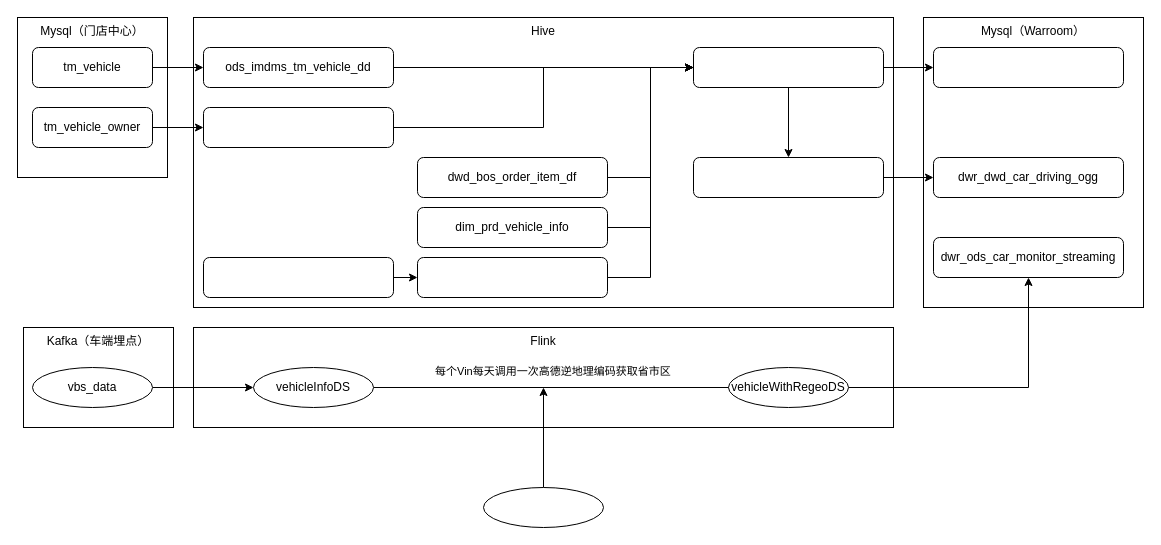
This 1161x545 diagram has some shape labels left out. The shapes that lost their labels are listed below. From the top down, each one's centre as x and y in pixels, then its label:
the point at 788,67: ads_imdms_people_veh_info_dd
the point at 1028,67: dwr_ods_car_monitor_batch
the point at 298,127: ods_imdms_tm_vehicle_owner_dd
the point at 788,177: ads_imdms_veh_info_dd
the point at 298,277: ods_imbs_vbs_data_delta
the point at 512,277: dwd_imdms_mlieage_dd
the point at 543,507: 高德API
